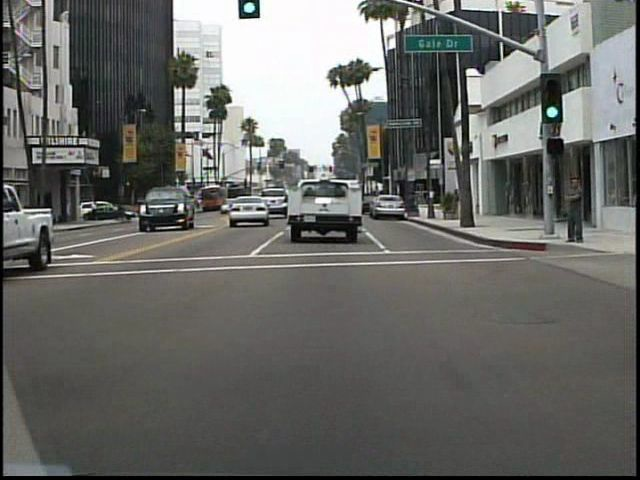person: (560, 169, 586, 250)
